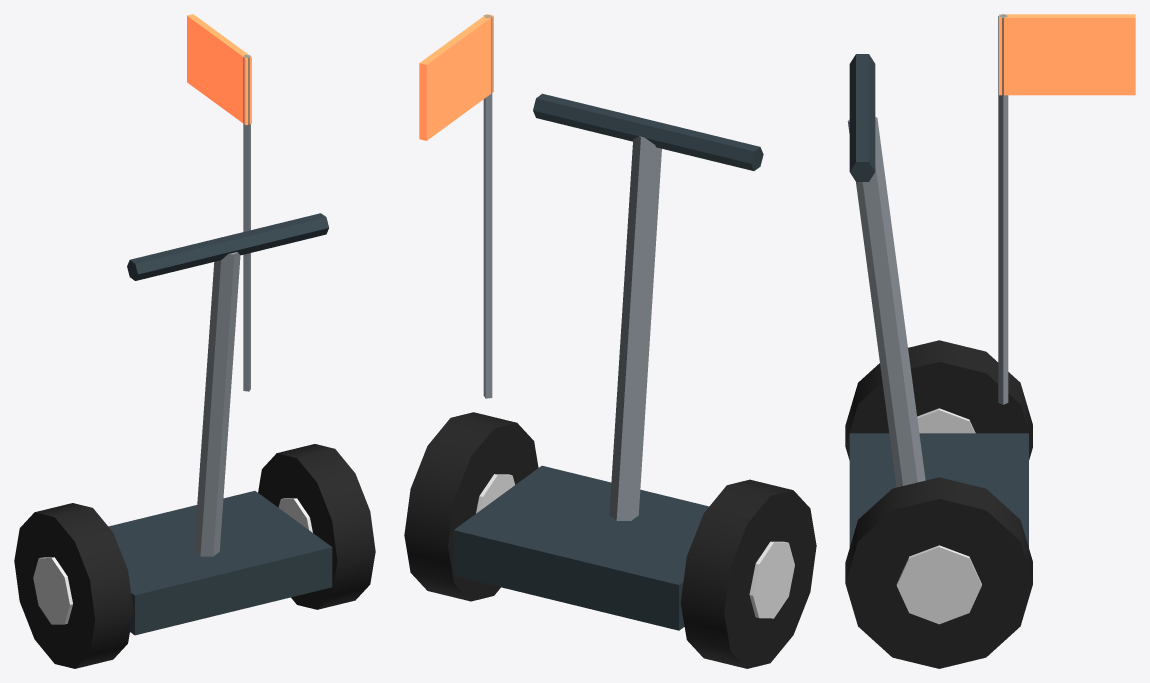
Rendered from airport_segway.glb.
The picture shows the model from 3 angles, left to right: view 1: azimuth 30°, elevation 25°; view 2: azimuth 150°, elevation 25°; view 3: azimuth 270°, elevation 25°; orthographic projection. The views are drawn at different scales.
Parts seen in each view (by area): view 1: AirportSegway_body; view 2: AirportSegway_body; view 3: AirportSegway_body.
Boxes of the visible parts, bbox=[...] form: AirportSegway_body: bbox=[14, 14, 375, 668]; AirportSegway_body: bbox=[404, 14, 816, 668]; AirportSegway_body: bbox=[845, 14, 1135, 668].
Size of the model in its own units: 0.9 by 1.6 by 0.68.
